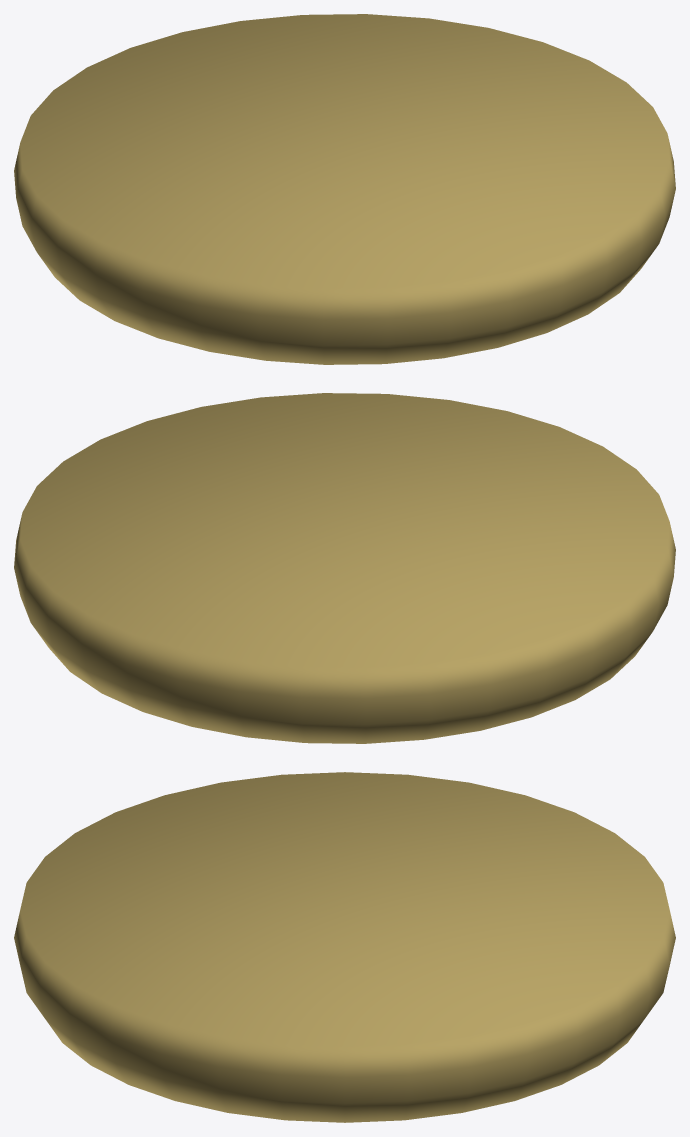
The model's file is Burger0.fbx.
The picture shows the model from 3 angles, top to bottom: view 1: azimuth 30°, elevation 25°; view 2: azimuth 150°, elevation 25°; view 3: azimuth 270°, elevation 25°; orthographic projection.
Visible parts, largest first — view 1: Sphere; view 2: Sphere; view 3: Sphere.
Boxes of the visible parts, <box> form: Sphere: <box>14,14,675,364</box>; Sphere: <box>14,393,675,743</box>; Sphere: <box>14,772,675,1122</box>.
Size of the model in its own units: 200 by 28.1 by 200.
